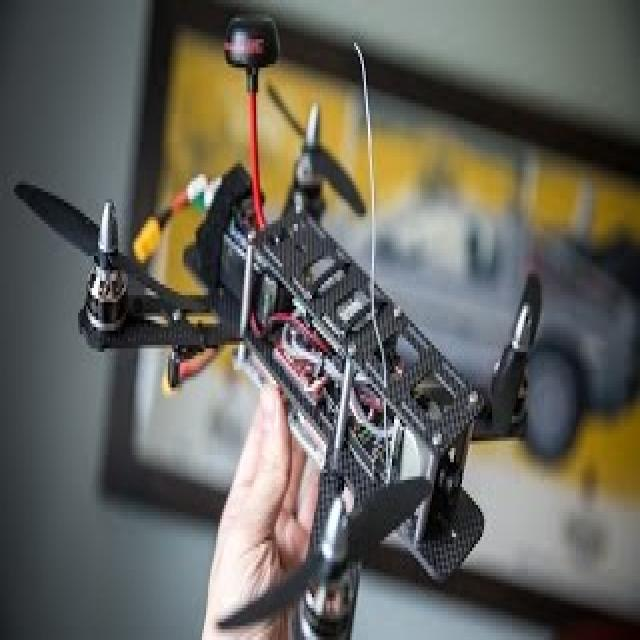drone: (88, 62, 520, 640)
